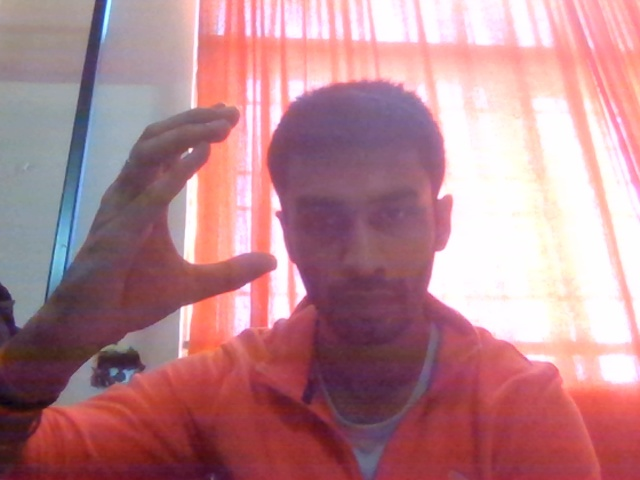C: (22, 93, 280, 402)
